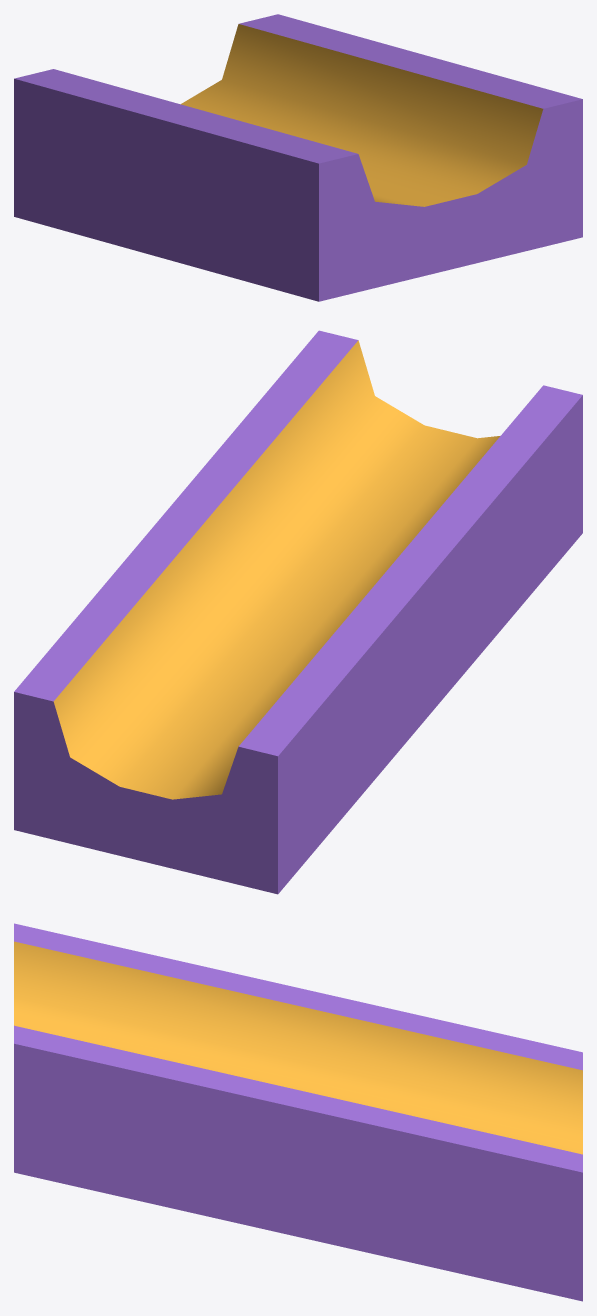
The model's file is slant-long-b.glb.
The picture shows the model from 3 angles, top to bottom: view 1: azimuth 30°, elevation 25°; view 2: azimuth 150°, elevation 25°; view 3: azimuth 270°, elevation 25°; orthographic projection. The views are drawn at different scales.
Parts seen in each view (by area): view 1: slant-long-b; view 2: slant-long-b; view 3: slant-long-b.
Part boxes in pixels (x1=…): slant-long-b: x1=14, y1=14, x2=582, y2=301; slant-long-b: x1=14, y1=330, x2=582, y2=894; slant-long-b: x1=14, y1=923, x2=582, y2=1301.
Bounding box in the file's own units: 1 × 1 × 2.
Materials: 1 (1 with a texture image).
